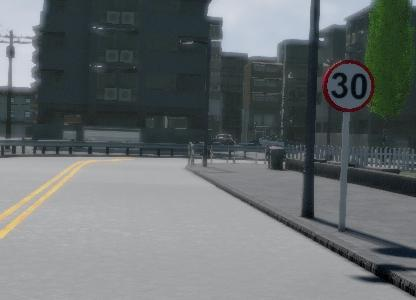Speed_30: (321, 54, 377, 114)
